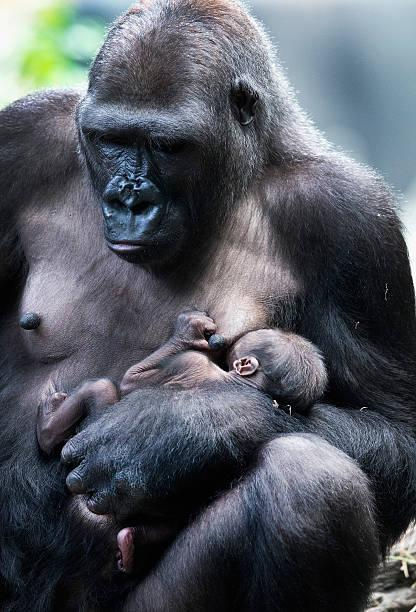gorille_Autres: (0, 0, 416, 342)
